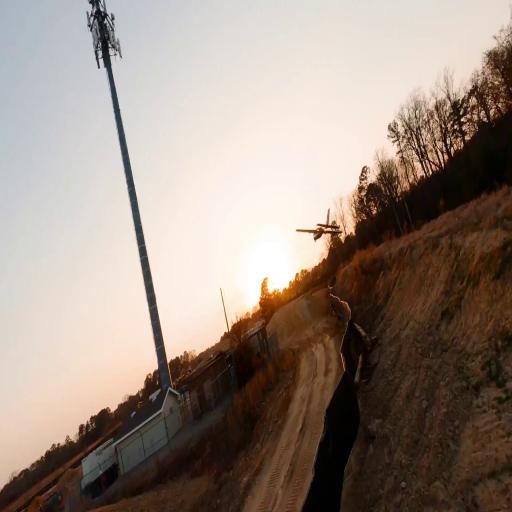uav: (295, 205, 346, 251)
